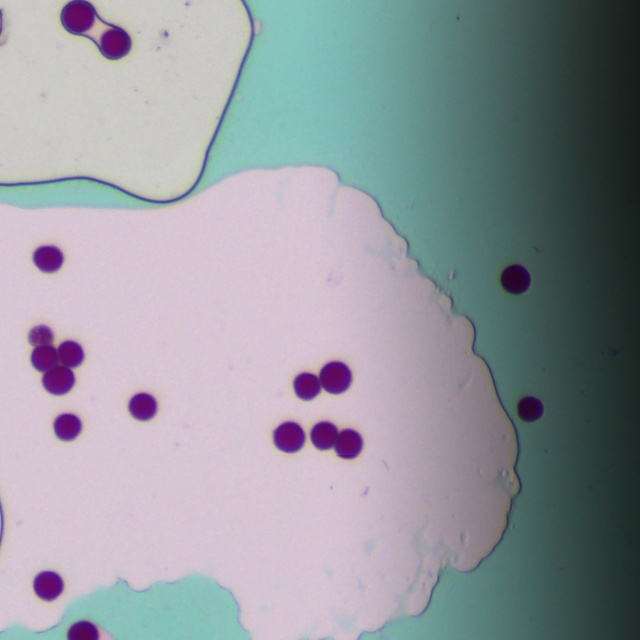viable: (60, 1, 131, 59), (28, 325, 84, 394), (312, 422, 362, 458), (62, 1, 94, 32), (274, 422, 304, 453), (321, 362, 351, 393), (502, 265, 531, 294), (34, 572, 63, 601), (101, 29, 130, 58), (43, 367, 74, 394), (129, 393, 157, 420), (34, 246, 63, 272), (55, 414, 81, 440), (58, 341, 83, 367), (295, 374, 320, 399), (518, 397, 543, 421), (32, 347, 57, 371), (68, 622, 98, 639), (29, 325, 53, 346)
